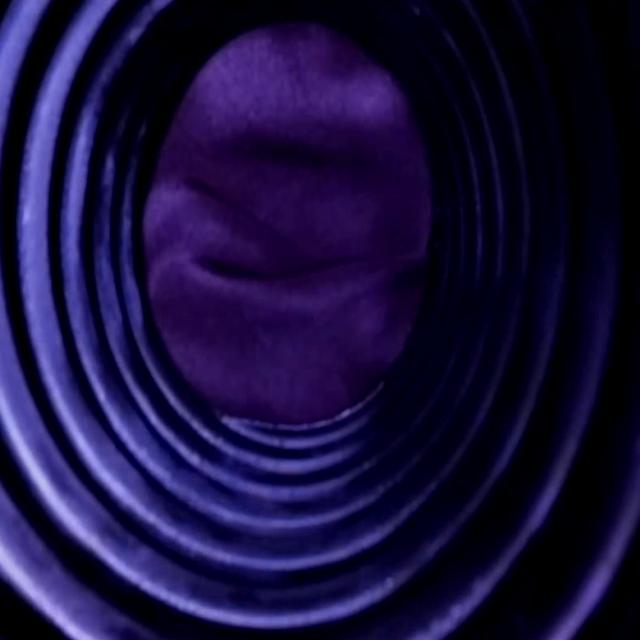block: (137, 34, 428, 429)
